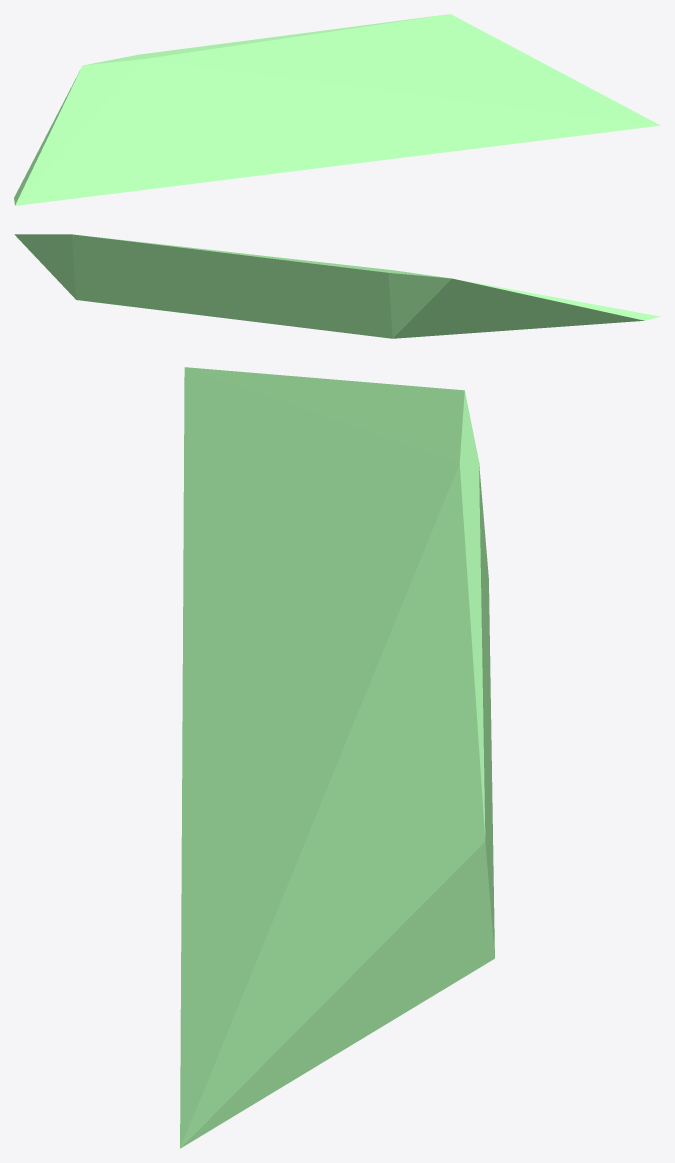
File: UMIRobot_UMIRobot_link_5_convex_coll_19.dae
3 renders of one model, top to bottom at view 1: azimuth 30°, elevation 25°; view 2: azimuth 150°, elevation 25°; view 3: azimuth 270°, elevation 25°, orthographic. The views are drawn at different scales.
Parts seen in each view (by area): view 1: node; view 2: node; view 3: node.
Boxes of the visible parts, <box> form: node: <box>14,14,660,205</box>; node: <box>14,234,660,338</box>; node: <box>180,367,494,1148</box>.
Size of the model in its own units: 0.0491 by 0.00958 by 0.0104.
